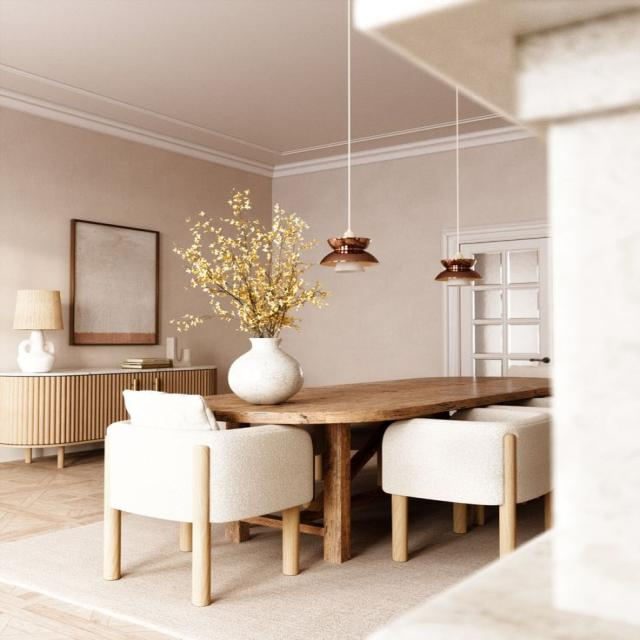door: (452, 236, 550, 379)
obstacle: (200, 375, 551, 563), (98, 425, 304, 595), (0, 364, 217, 468), (390, 422, 546, 558)
